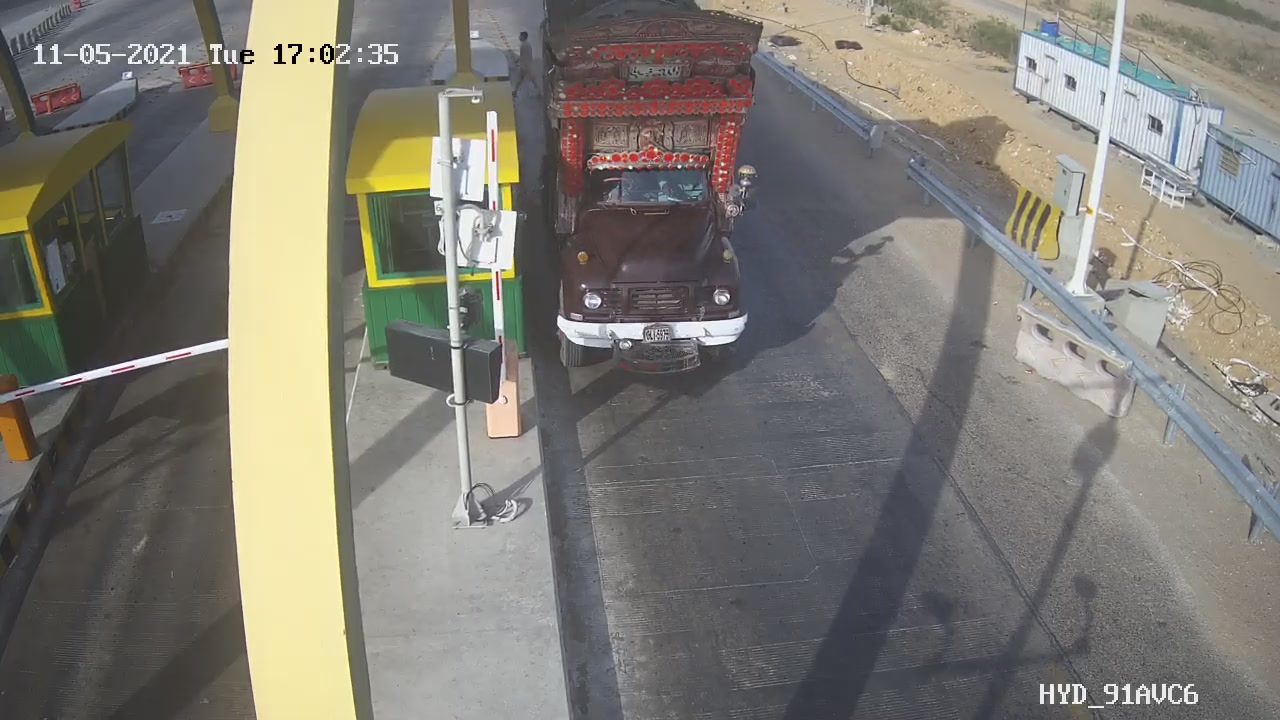F5: (529, 1, 783, 413)
